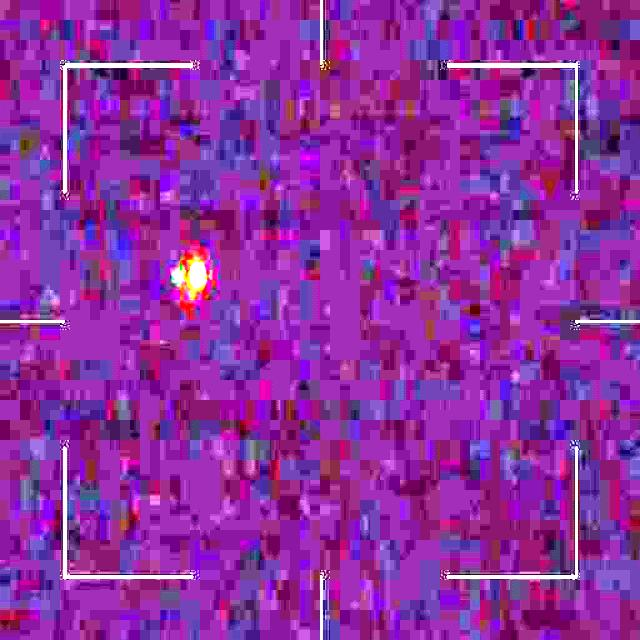bird: (171, 254, 208, 306)
